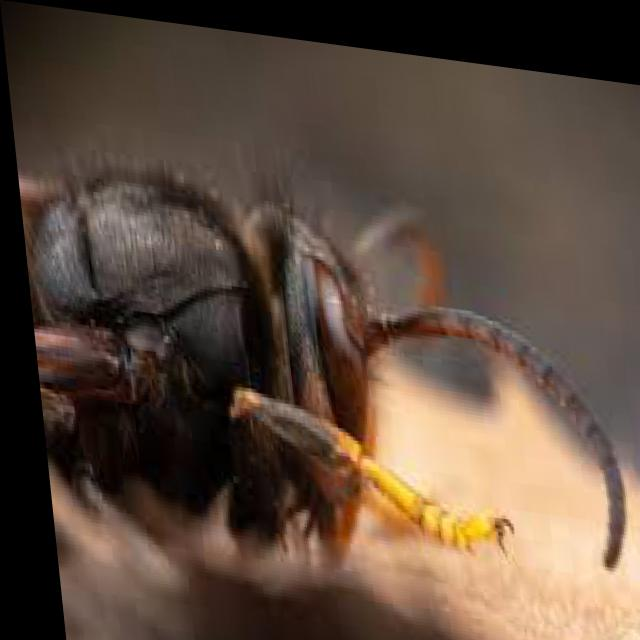Vespa Velutina: (8, 92, 632, 597)
